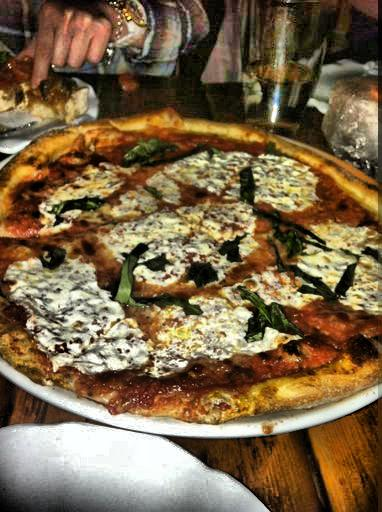pizza: (2, 108, 382, 423)
